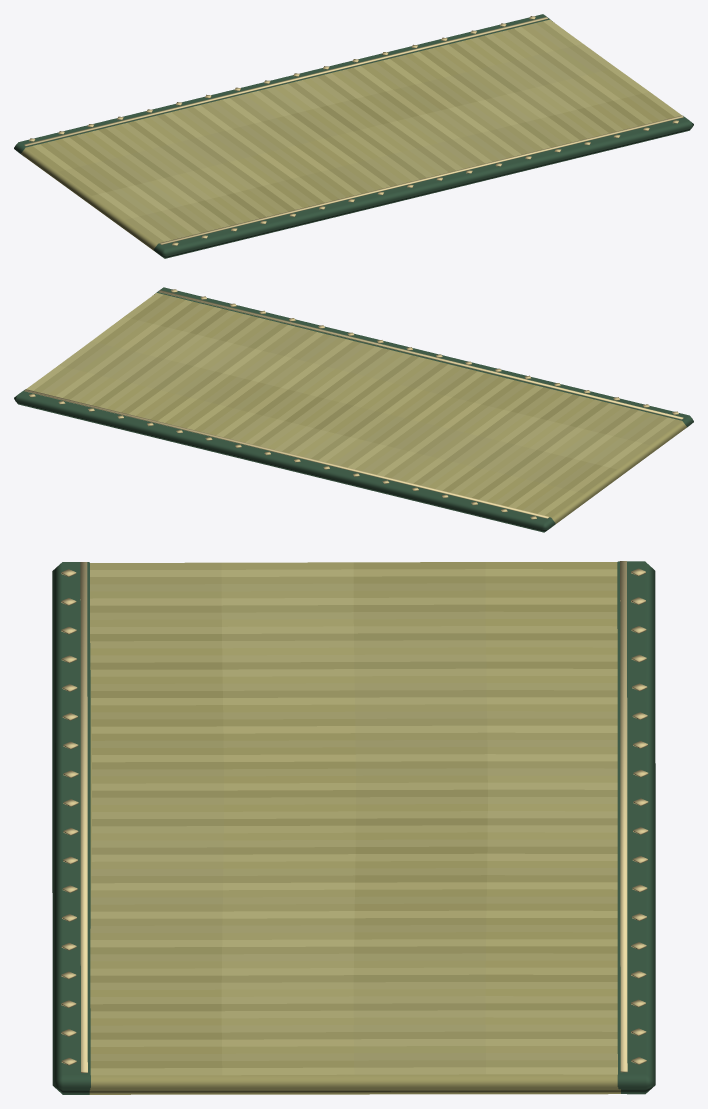
The model's file is furn-tatamiMat.glb.
The picture shows the model from 3 angles, top to bottom: view 1: azimuth 30°, elevation 25°; view 2: azimuth 150°, elevation 25°; view 3: azimuth 270°, elevation 25°; orthographic projection. The views are drawn at different scales.
Parts seen in each view (by area): view 1: furn-tatamiMat; view 2: furn-tatamiMat; view 3: furn-tatamiMat.
Boxes of the visible parts, <box> form: furn-tatamiMat: <box>14,14,693,258</box>; furn-tatamiMat: <box>14,287,693,532</box>; furn-tatamiMat: <box>52,561,655,1094</box>.
Bounding box in the file's own units: 1.97 × 0.0389 × 0.9608.
